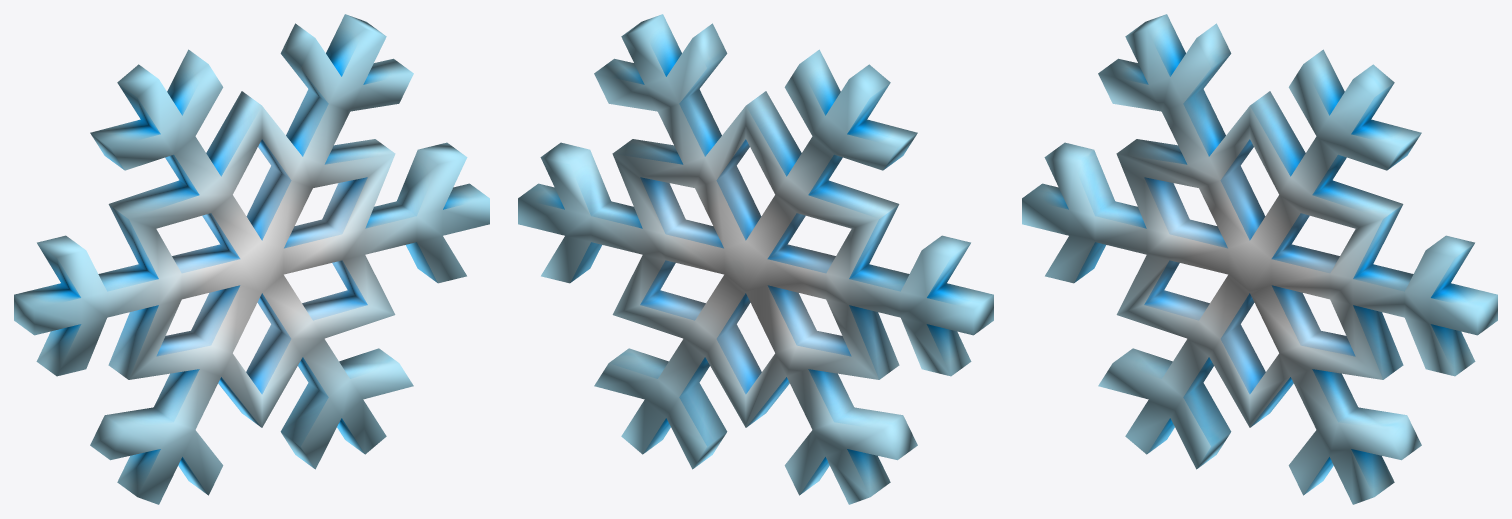
Rendered from Snowflake.fbx.
3 renders of one model, left to right at view 1: azimuth 30°, elevation 25°; view 2: azimuth 150°, elevation 25°; view 3: azimuth 330°, elevation 25°, orthographic.
Visible parts, largest first — view 1: Snowflake; view 2: Snowflake; view 3: Snowflake.
Part boxes in pixels (x1,y1,x2,y2): Snowflake: (14,14,489,504); Snowflake: (518,14,993,504); Snowflake: (1022,14,1497,504).
Bounding box in the file's own units: 3.21 × 2.9 × 0.247.
